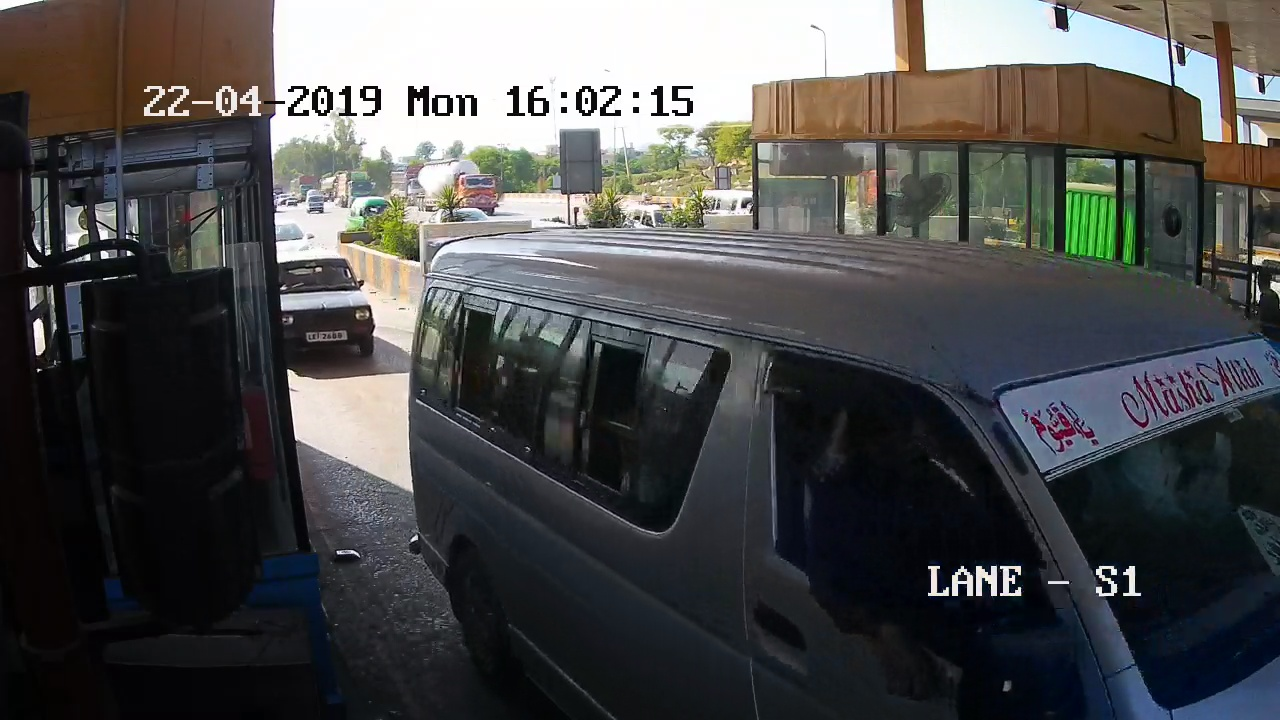car: (414, 228, 1265, 720), (279, 254, 375, 365)
